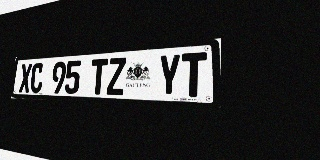5: (64, 60, 81, 94)
9: (51, 61, 67, 94)
C: (30, 63, 44, 93)
T: (181, 52, 207, 97), (90, 58, 108, 95)
X: (19, 63, 32, 93)
Y: (157, 54, 181, 97)
Z: (106, 57, 126, 95)
